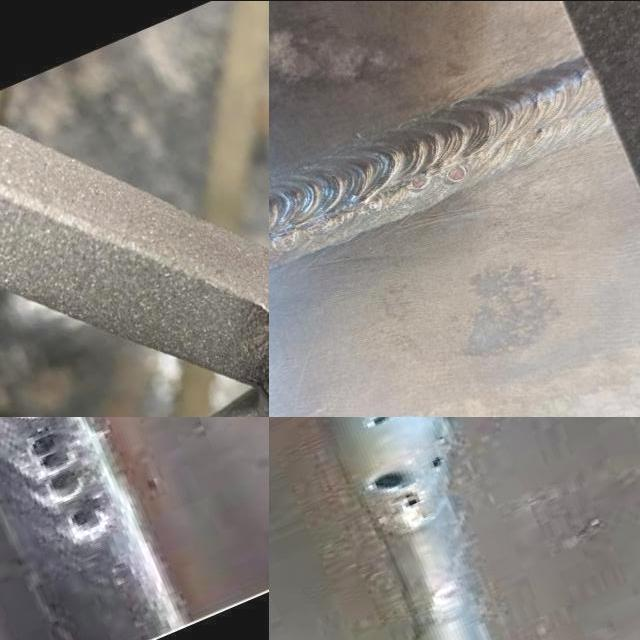defect: (20, 423, 112, 537), (367, 465, 423, 509), (423, 448, 457, 474), (446, 161, 476, 184), (308, 214, 335, 236), (406, 170, 434, 189), (278, 226, 300, 248), (364, 416, 395, 431), (534, 125, 549, 138)
